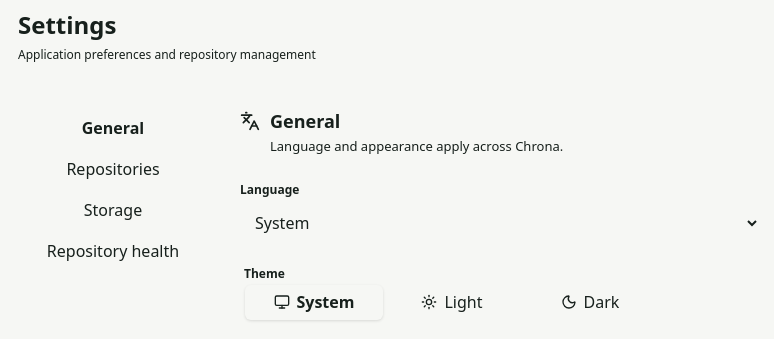
Scenario: replaces repository-specific settings with setup actions
This screenshot has width=774, height=339.
Click the button "Storage": (113, 210) 18,191 -> 208,229
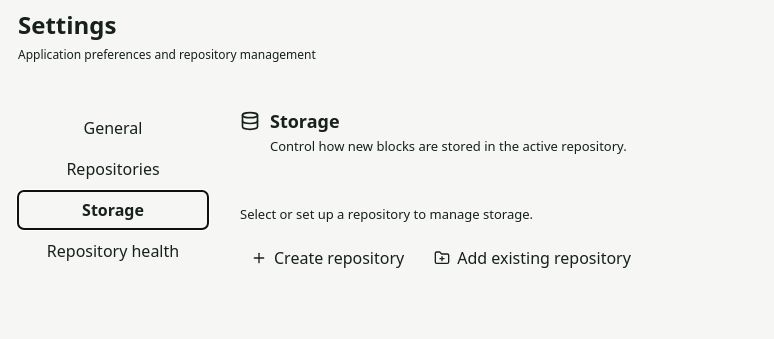
Expected: the text "Select or set up a repository to manage storage." is shown, 240,204 -> 533,224
Expected: the button "Create repository" is enabled, 240,240 -> 415,275
Click the button "Repository health": (113, 251) 18,232 -> 208,270
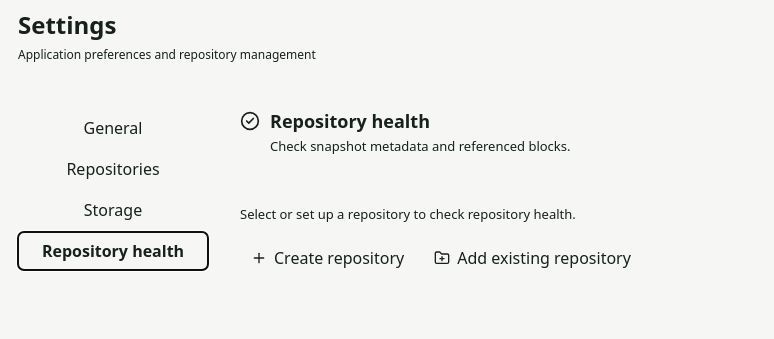
Expected: the text "Select or set up a repository to check repository health." is shown, 240,204 -> 576,224
